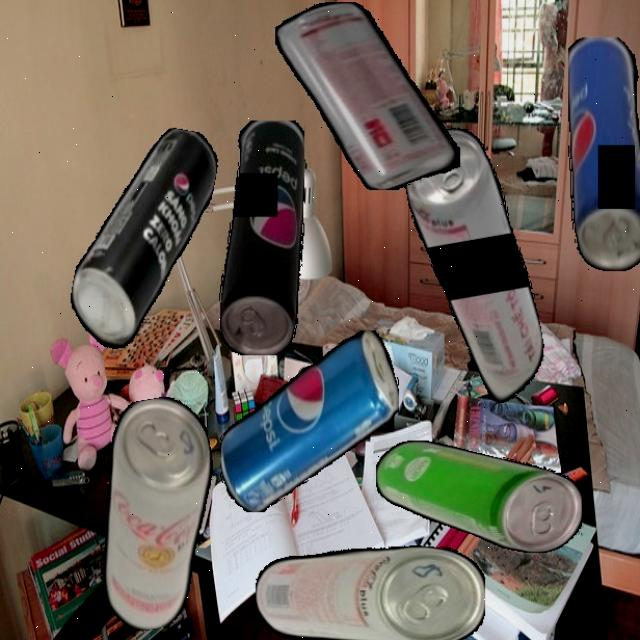debris: (397, 120, 552, 412), (75, 390, 239, 636), (62, 116, 222, 367), (276, 1, 460, 190), (219, 330, 399, 512), (375, 440, 582, 552), (255, 545, 485, 640), (218, 120, 304, 356), (567, 36, 640, 272)
